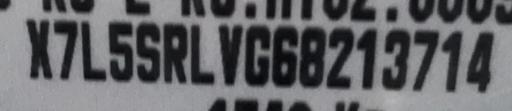letter: (464, 29, 496, 94), (23, 17, 53, 82), (78, 18, 108, 83), (105, 19, 135, 84), (270, 24, 300, 89), (296, 25, 326, 90), (325, 25, 355, 90), (381, 27, 411, 90), (410, 29, 440, 92), (216, 22, 244, 87), (133, 21, 161, 84), (160, 22, 188, 85), (188, 23, 216, 86), (244, 22, 270, 89), (52, 19, 78, 82), (354, 25, 378, 90), (440, 29, 464, 92)
